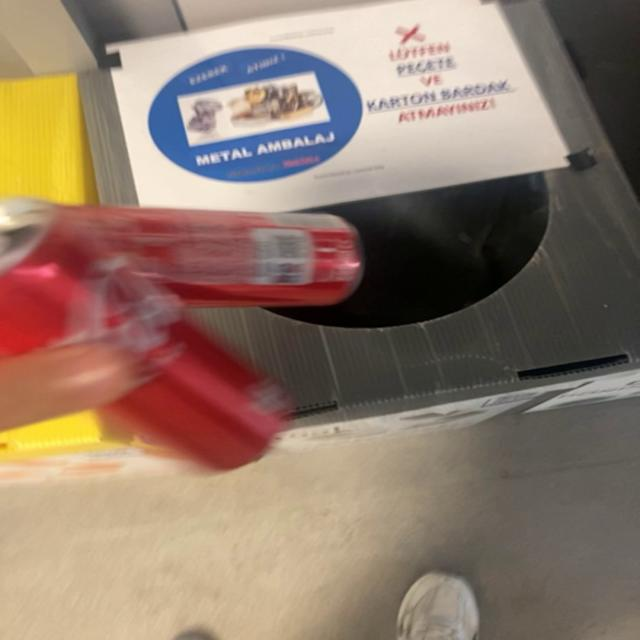bin: (192, 0, 639, 427), (77, 68, 143, 204)
metal: (1, 197, 361, 470)
